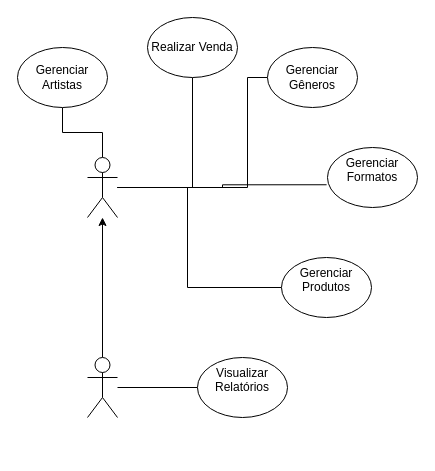
This 435x471 diagram has some shape labels left out. Each missing label, with the centre of its shape:
Administrador: pixel 102 387
Funcionário: pixel 102 187
